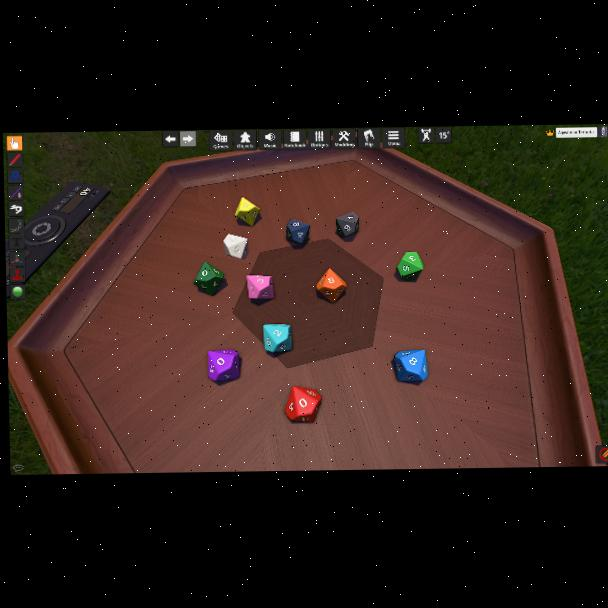d10: (285, 386, 323, 423), (317, 268, 348, 304), (207, 349, 239, 383), (394, 350, 427, 382), (193, 262, 224, 296), (262, 323, 291, 351), (234, 196, 260, 227), (397, 251, 423, 281), (248, 274, 275, 300), (285, 219, 310, 246), (334, 212, 358, 238), (223, 233, 246, 260)
